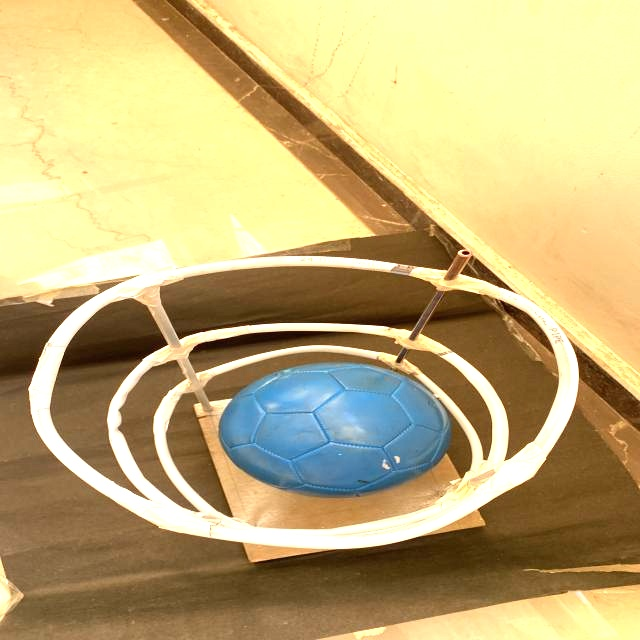blue_ball: (235, 358, 445, 500)
silo: (18, 248, 566, 548)
